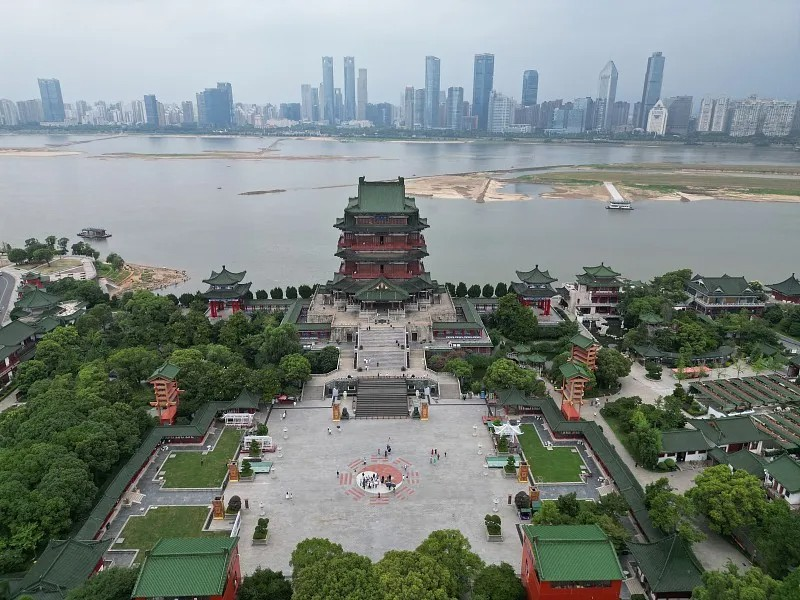Teng: (317, 175, 447, 309)
